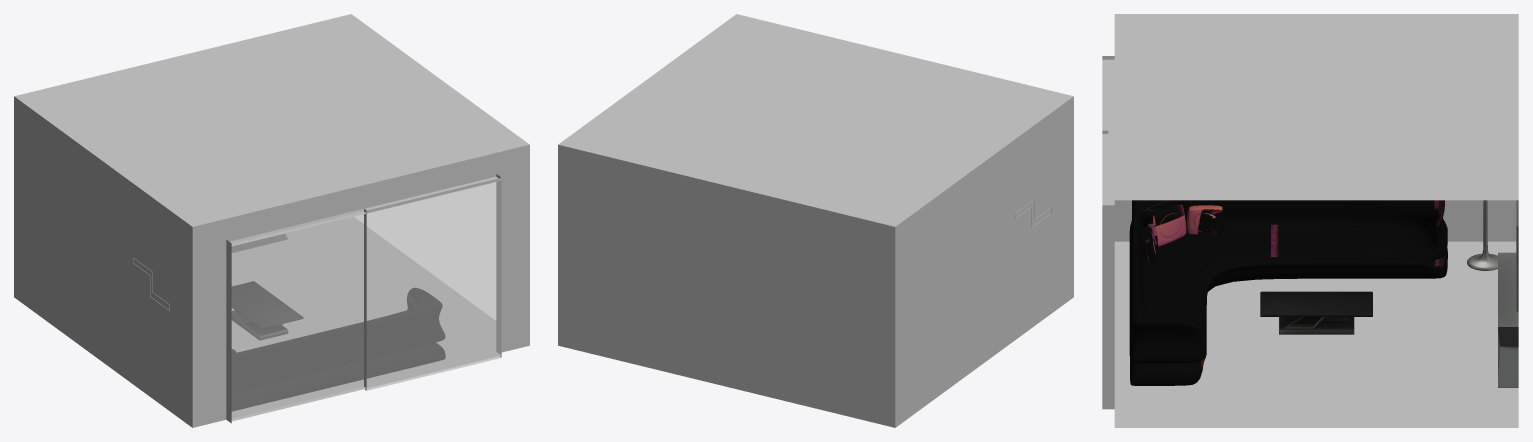
The model's file is AHAHAHAH.fbx.
The picture shows the model from 3 angles, left to right: view 1: azimuth 30°, elevation 25°; view 2: azimuth 150°, elevation 25°; view 3: azimuth 270°, elevation 25°; orthographic projection. The views are drawn at different scales.
Visible parts, largest first — view 1: polySurface4, Windows, Sofa, CoffeeTable; view 2: polySurface4; view 3: polySurface4, Sofa, CoffeeTable, Pillows, TVStand, Lamp.
Boxes of the visible parts, left/top/right/bottom form: polySurface4: left=14, top=14, right=529, bottom=427; Windows: left=229, top=181, right=501, bottom=418; Sofa: left=232, top=288, right=445, bottom=411; CoffeeTable: left=232, top=281, right=303, bottom=340; polySurface4: left=558, top=14, right=1073, bottom=427; polySurface4: left=1102, top=14, right=1518, bottom=427; Sofa: left=1129, top=200, right=1447, bottom=385; CoffeeTable: left=1260, top=291, right=1372, bottom=334; Pillows: left=1141, top=201, right=1224, bottom=261; TVStand: left=1498, top=252, right=1518, bottom=387; Lamp: left=1467, top=200, right=1497, bottom=270.
Bounding box in the file's own units: 2352 × 1338 × 2220.
